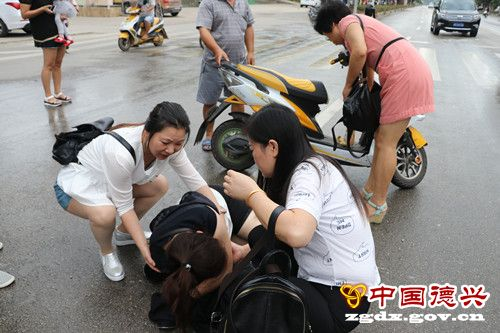fall: (137, 167, 260, 310)
